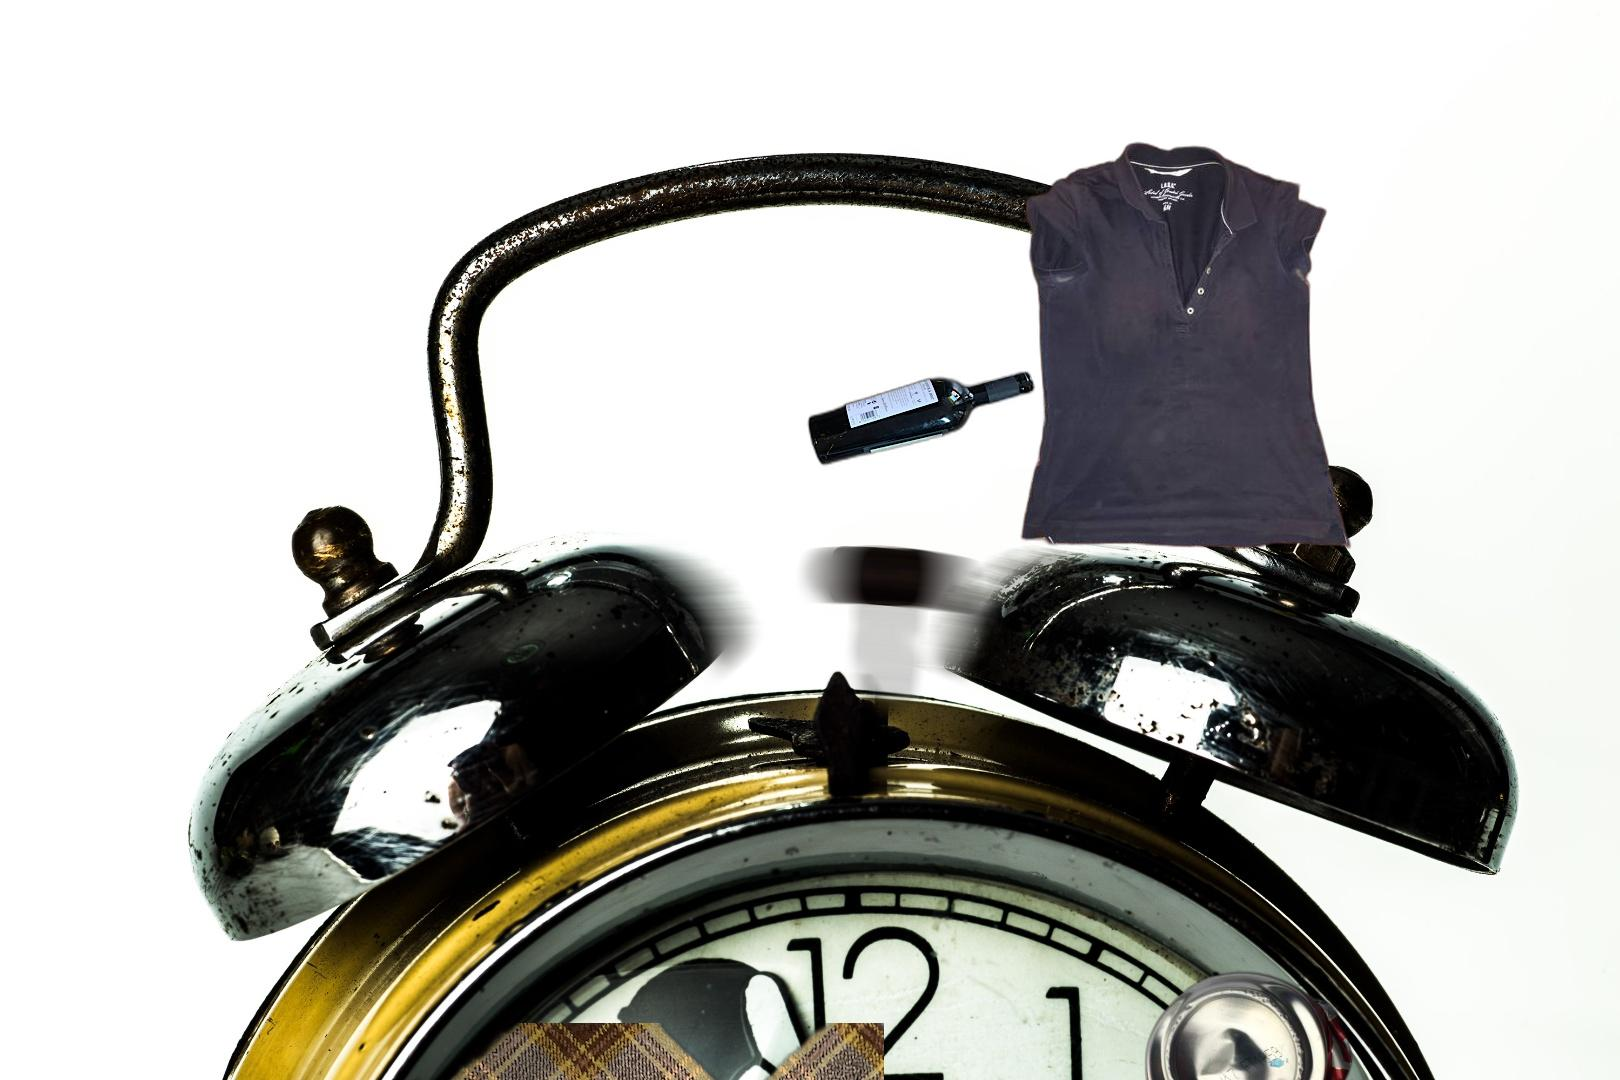clothes: (1019, 137, 1354, 552)
glass: (804, 366, 1038, 471)
metal-cans: (1141, 969, 1357, 1080)
plastic-bottles: (372, 1023, 884, 1080)
